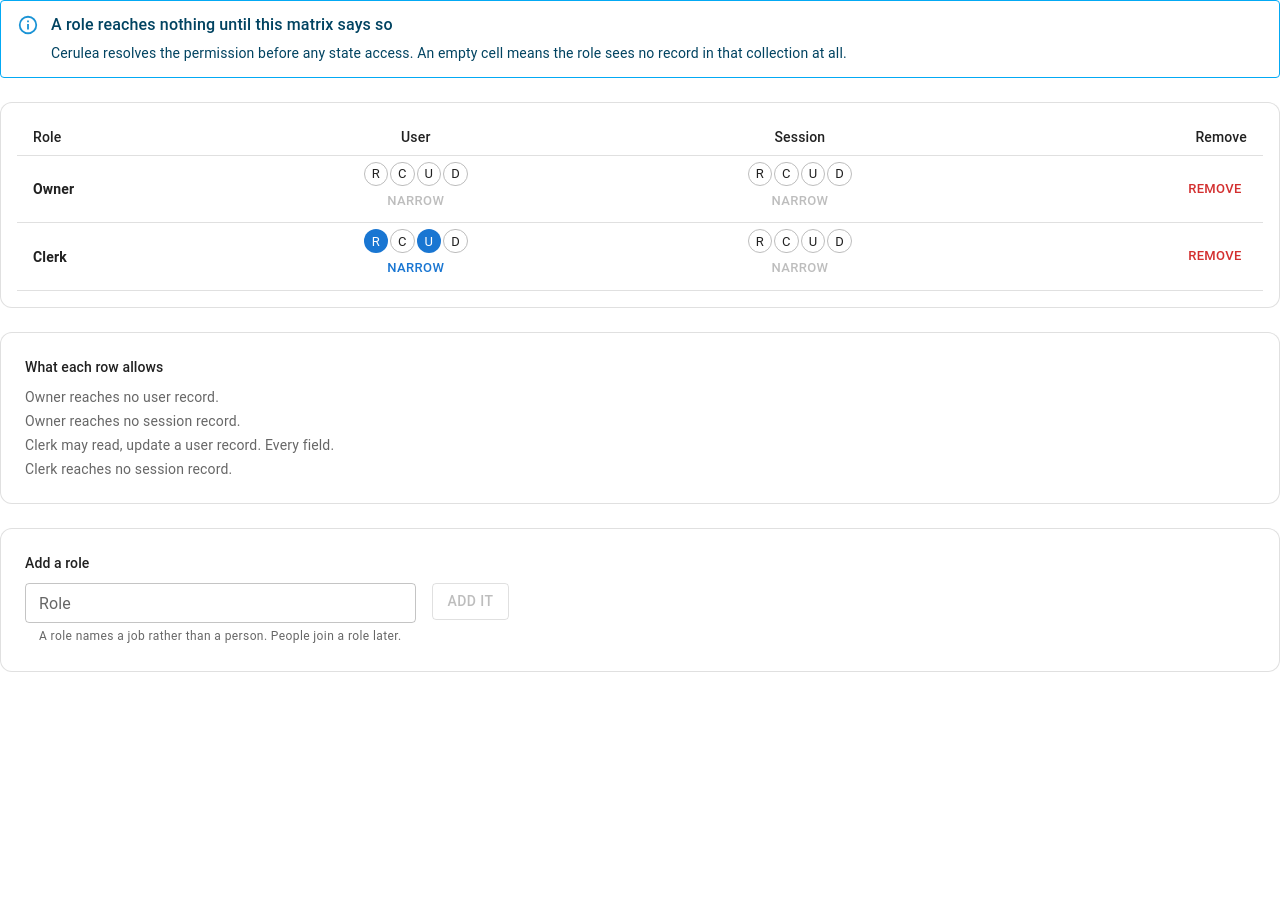
Test: the permission matrix cells › adds a capability in the fixed order of the four actions
The width and height of the screenshot is (1280, 900).
Click the button named "Create for Clerk on User": coordinates (402, 241) x1=390 y1=229 x2=414 y2=253
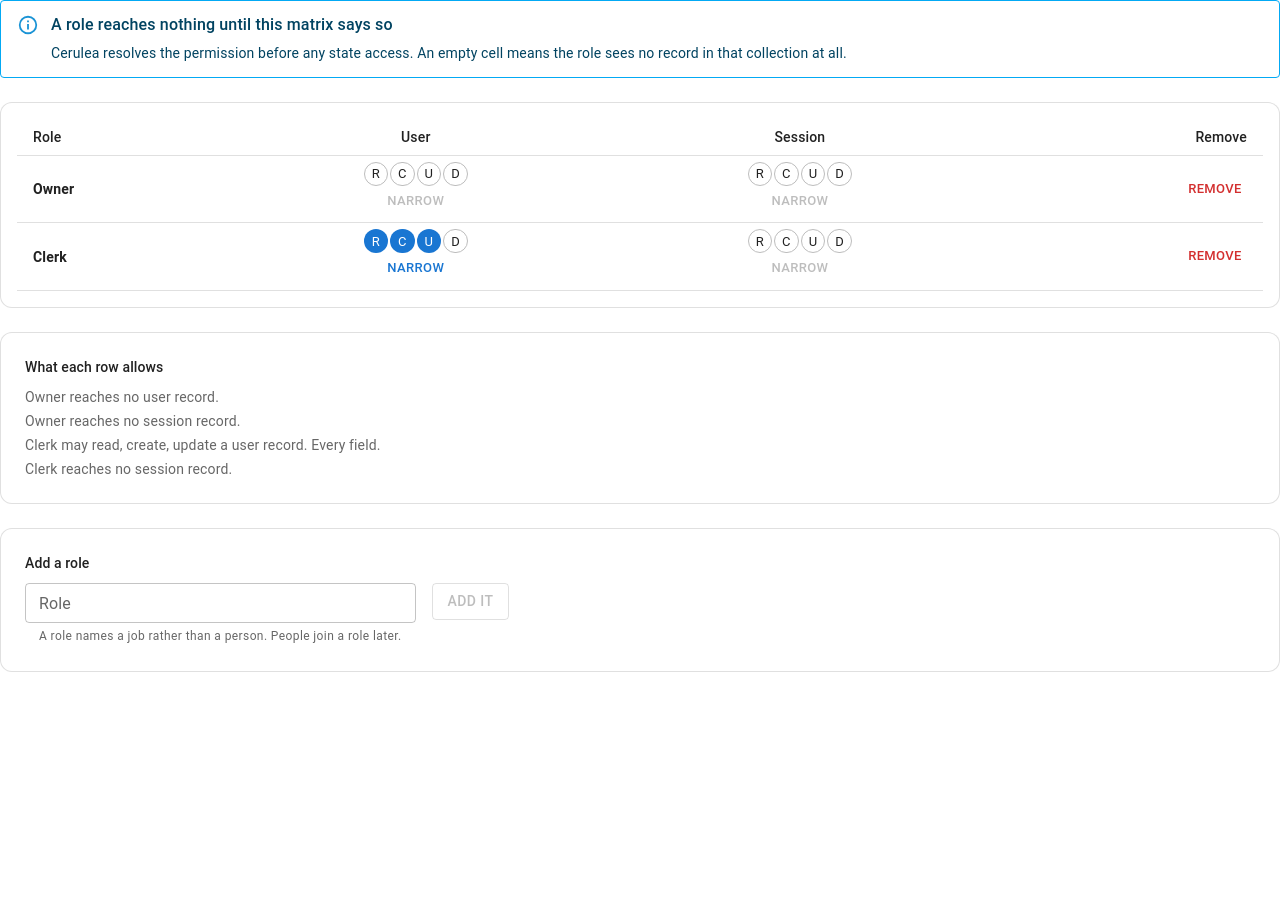
Check: the text "Clerk may read, create, update a user record. Every field." is shown, box x1=25 y1=437 x2=381 y2=453
